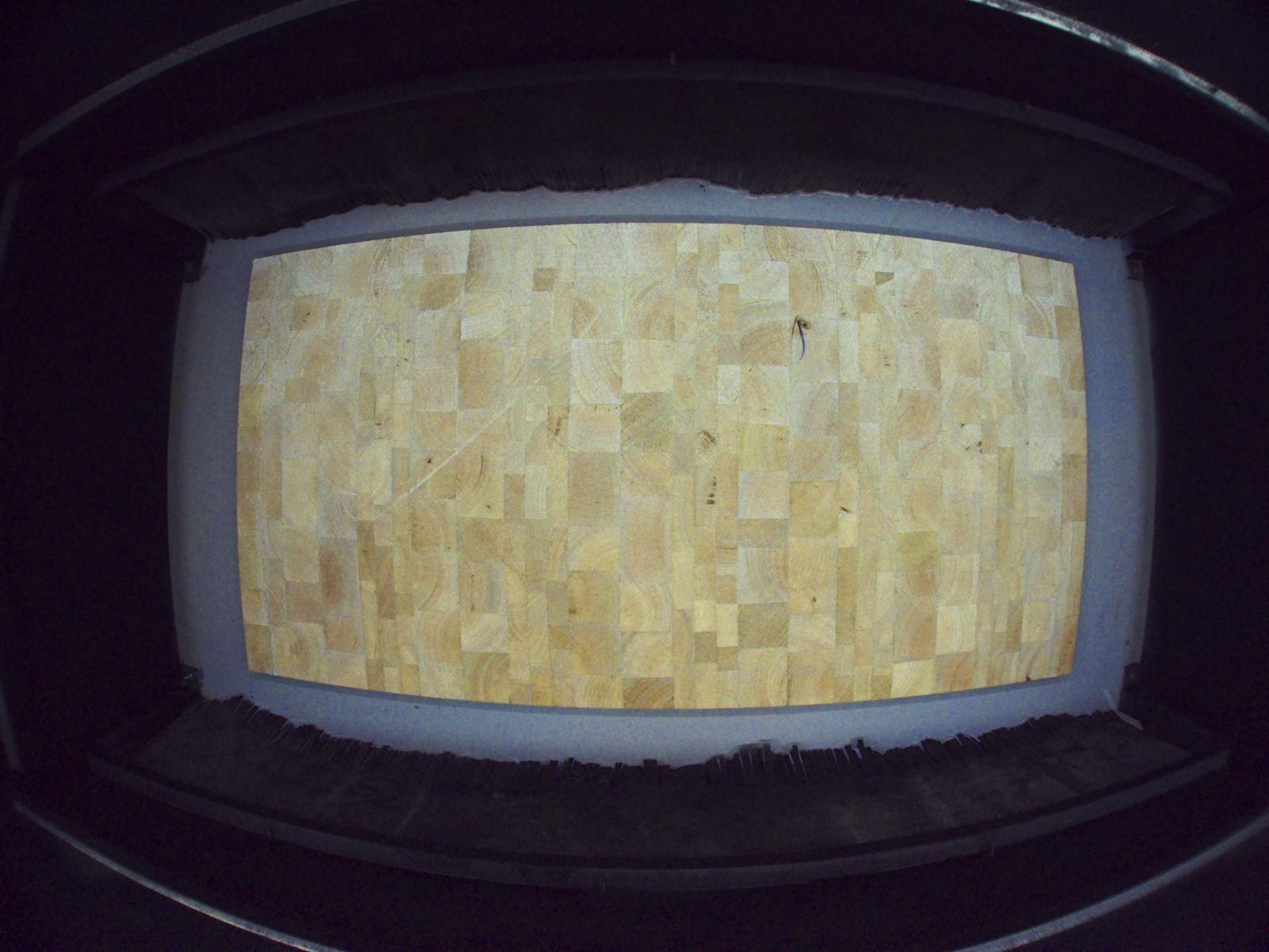sheck_ecuatoriano: (791, 314, 812, 346)
